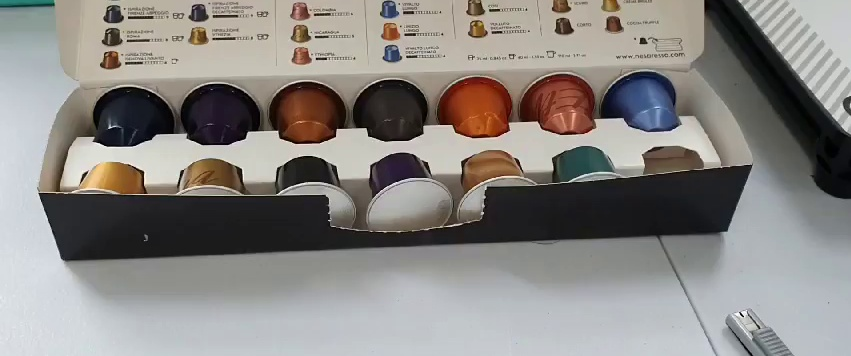capsule_1: (89, 85, 179, 154)
capsule_10: (265, 160, 357, 235)
capsule_11: (363, 155, 457, 231)
capsule_12: (456, 147, 537, 223)
capsule_13: (547, 145, 624, 192)
capsule_2: (176, 82, 263, 146)
capsule_3: (264, 78, 353, 142)
capsule_4: (352, 79, 431, 139)
capsule_5: (434, 75, 517, 141)
capsule_6: (512, 70, 598, 136)
capsule_7: (599, 68, 684, 133)
capsule_8: (67, 160, 147, 201)
capsule_9: (168, 161, 253, 207)
